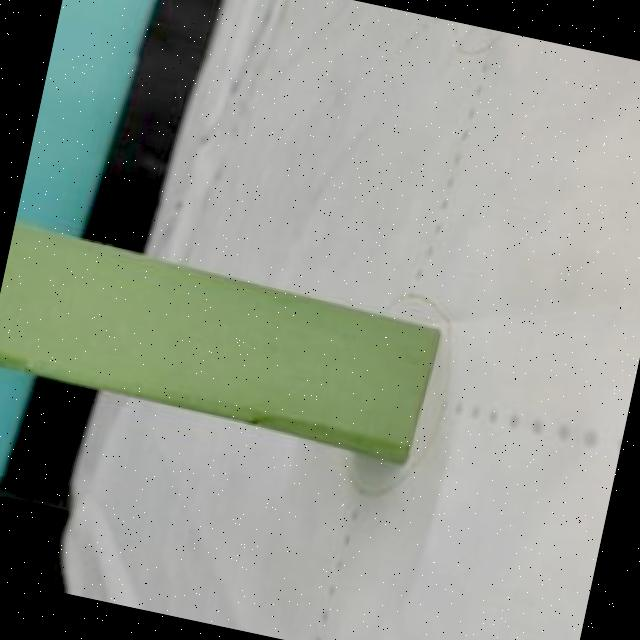greenbox: (0, 223, 447, 462)
